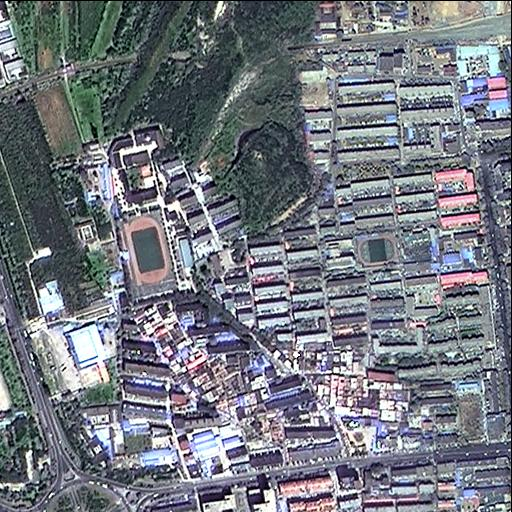school: (108, 125, 175, 301), (317, 230, 398, 274)
